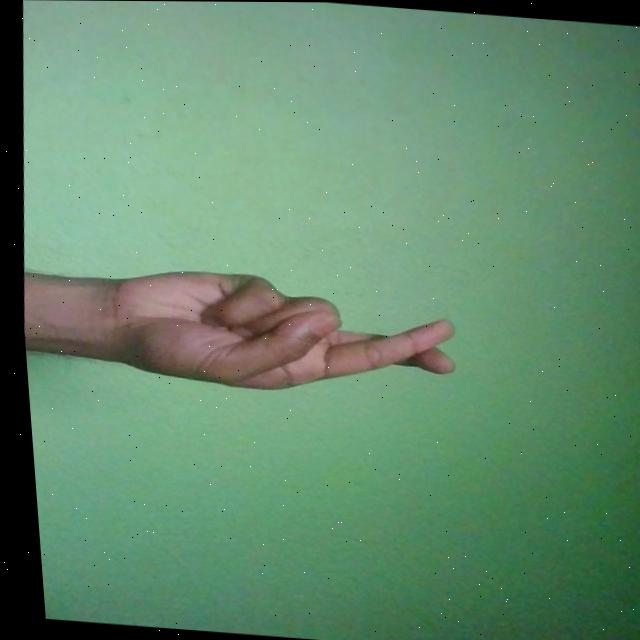Good Luck: (91, 262, 458, 405)
